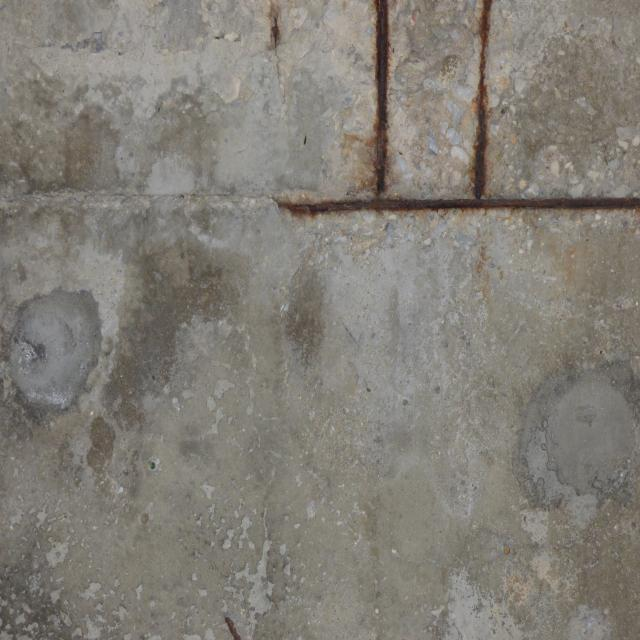corrosion: (258, 0, 640, 306)
